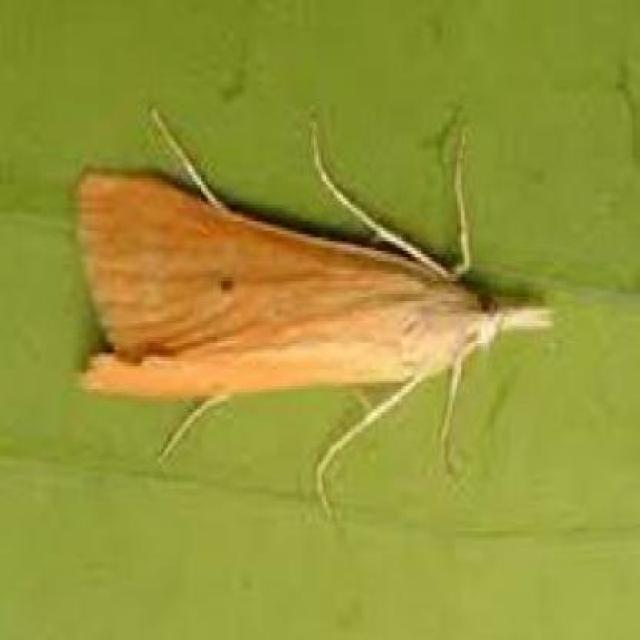stem-borer: (70, 102, 558, 523)
